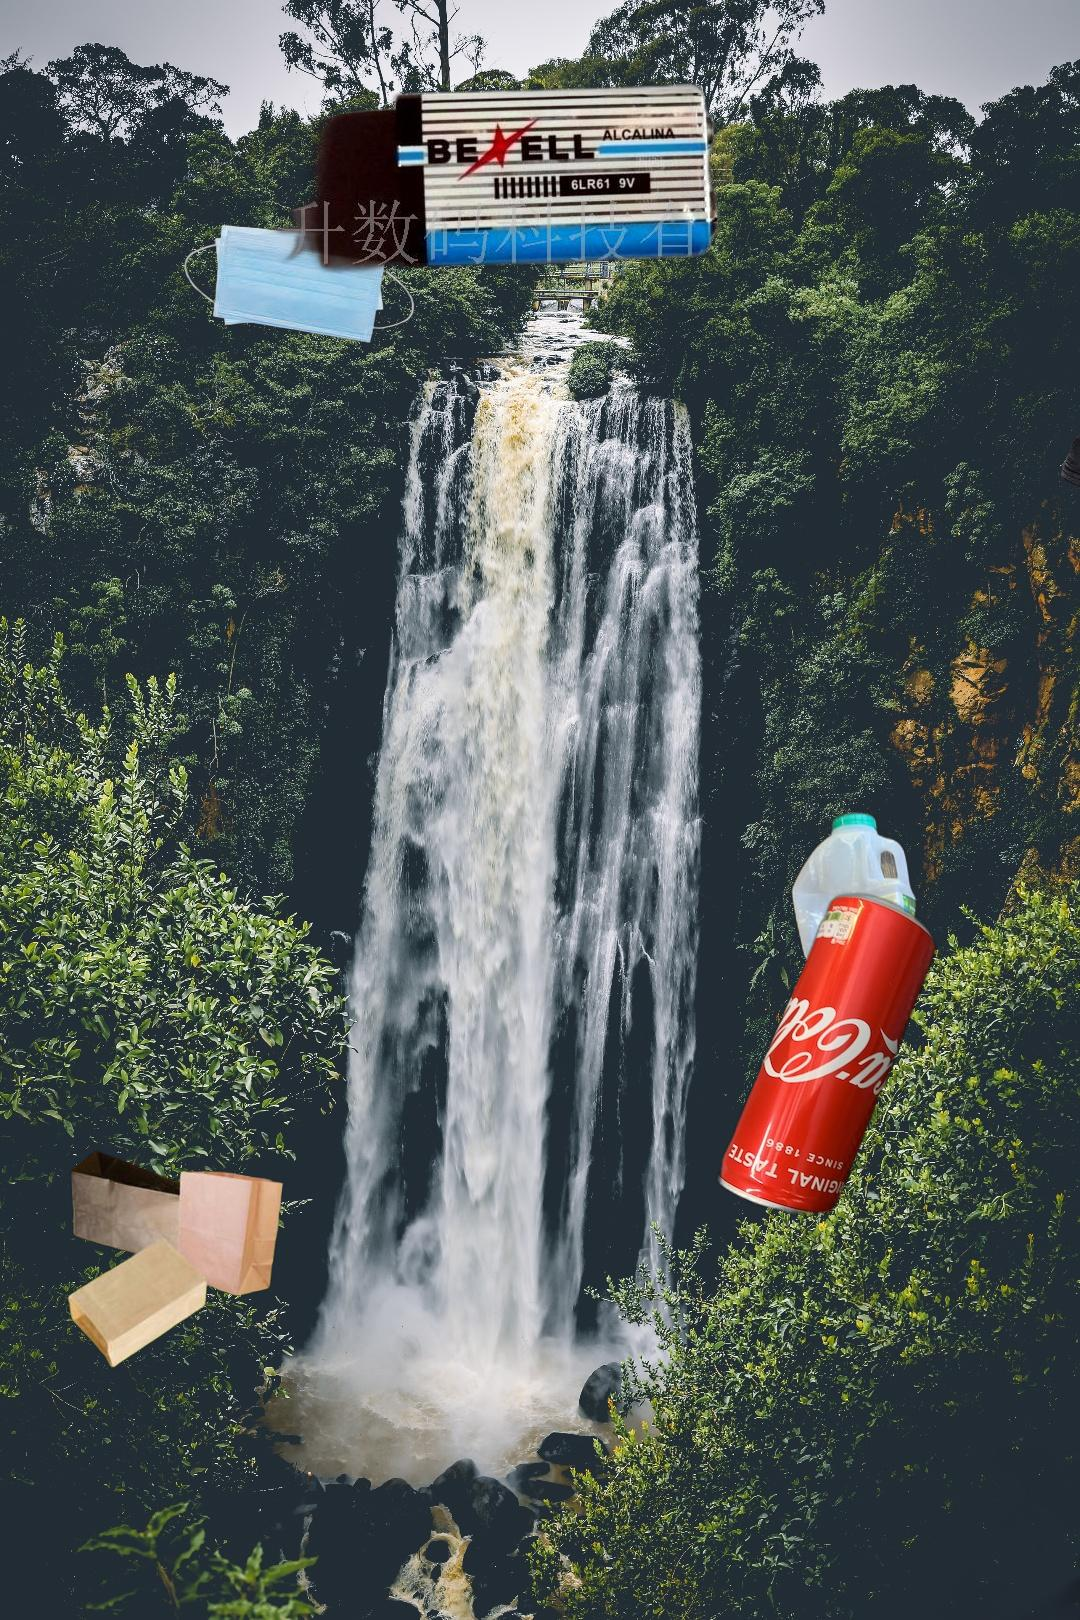battery: (262, 77, 728, 277)
metal-cans: (714, 888, 941, 1220)
paper-bag: (65, 1147, 288, 1369)
plastic-bottles: (787, 805, 1080, 1358)
shoes: (1060, 319, 1080, 504)
trash: (182, 219, 417, 346)
trashbox-cardboard: (885, 1448, 1080, 1620)
